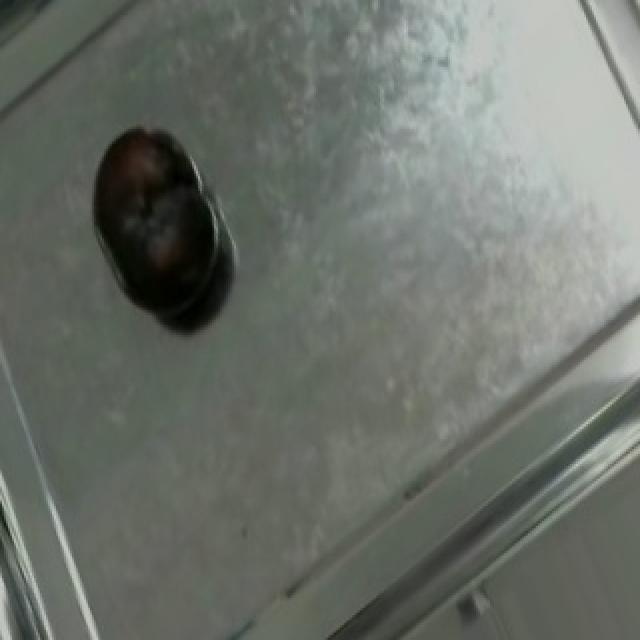Fruit: (70, 107, 230, 330)
